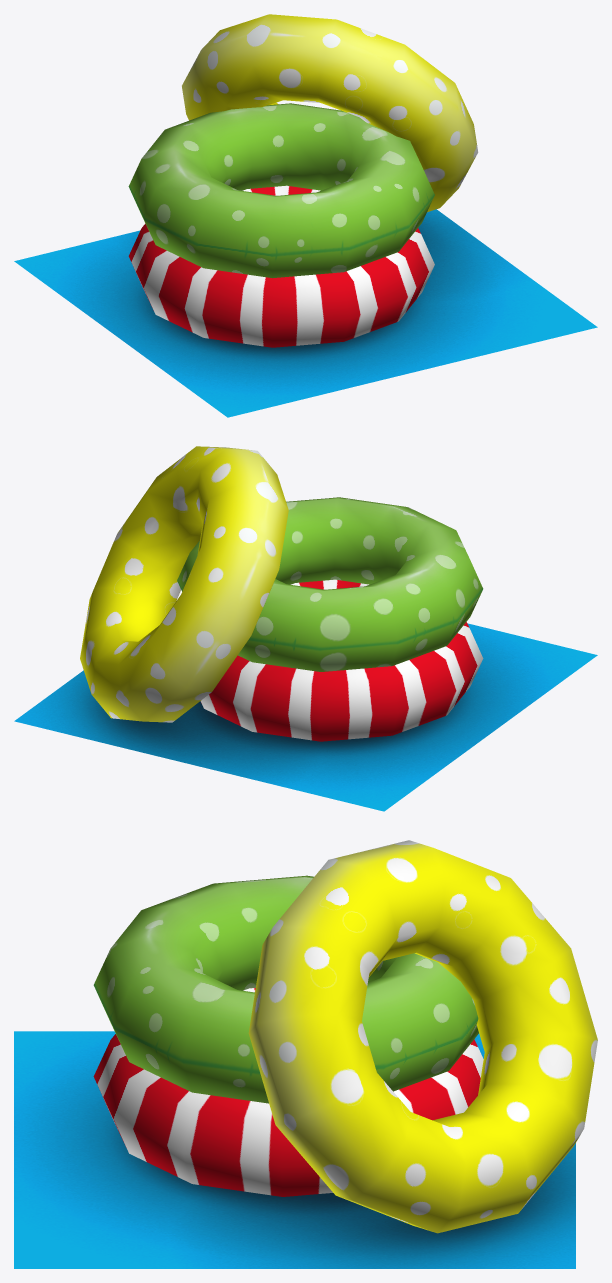
The model's file is Ring_lifebuoy.fbx.
3 views of the same model, one above another, from view 1: azimuth 30°, elevation 25°; view 2: azimuth 150°, elevation 25°; view 3: azimuth 270°, elevation 25° (orthographic). The views are drawn at different scales.
Visible parts, largest first — view 1: 088; view 2: 088; view 3: 088.
Boxes of the visible parts, <box> form: 088: <box>14,14,597,417</box>; 088: <box>14,446,597,811</box>; 088: <box>14,840,597,1268</box>.
Size of the model in its own units: 81.73 by 51.32 by 84.92.
Materials: 1 (1 with a texture image).
